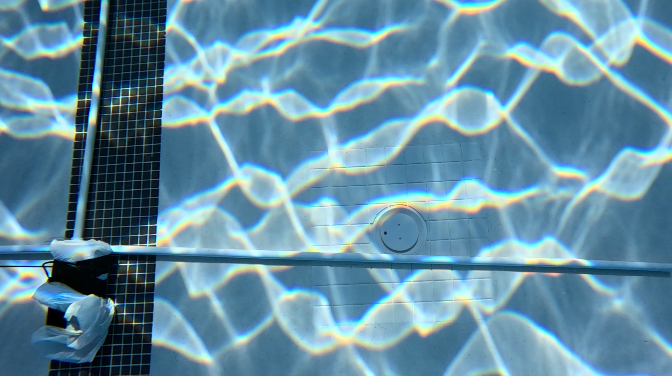sandbag: (38, 238, 110, 360)
